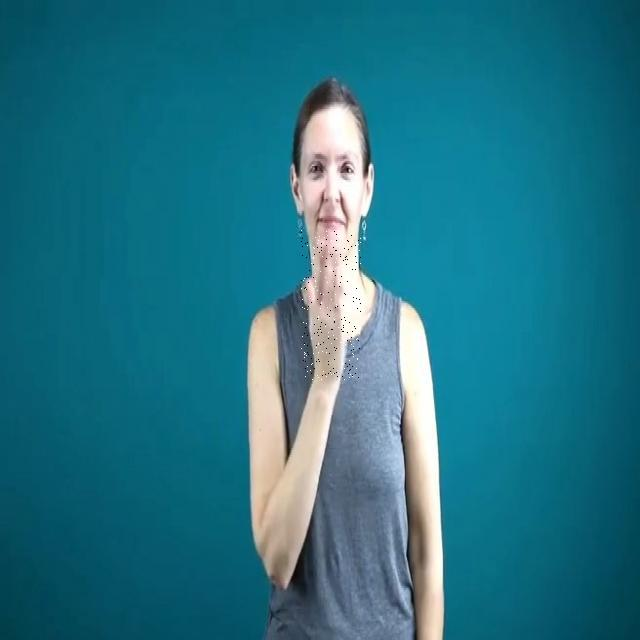napkin: (301, 230, 361, 380)
